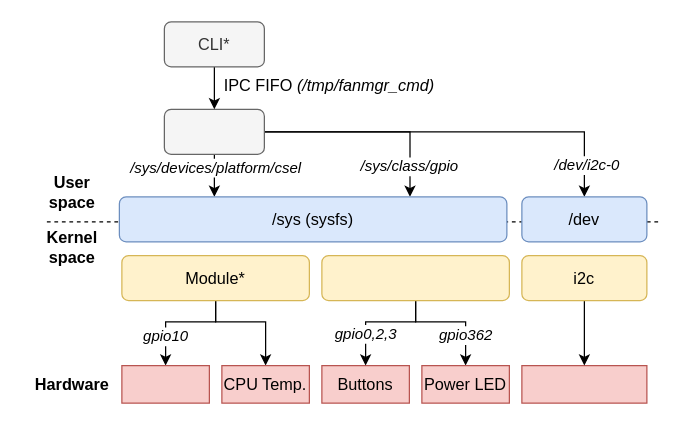
This 683x425 diagram has some shape labels left out. The shapes that lost their labels are listed below. From the top down, each one's centre as x and y in pixels, then its label:
At [213,131]: "Daemon*".
At [415,277]: "GPIO".
At [165,383]: "Status LED".
At [584,383]: "OLED Screen".
